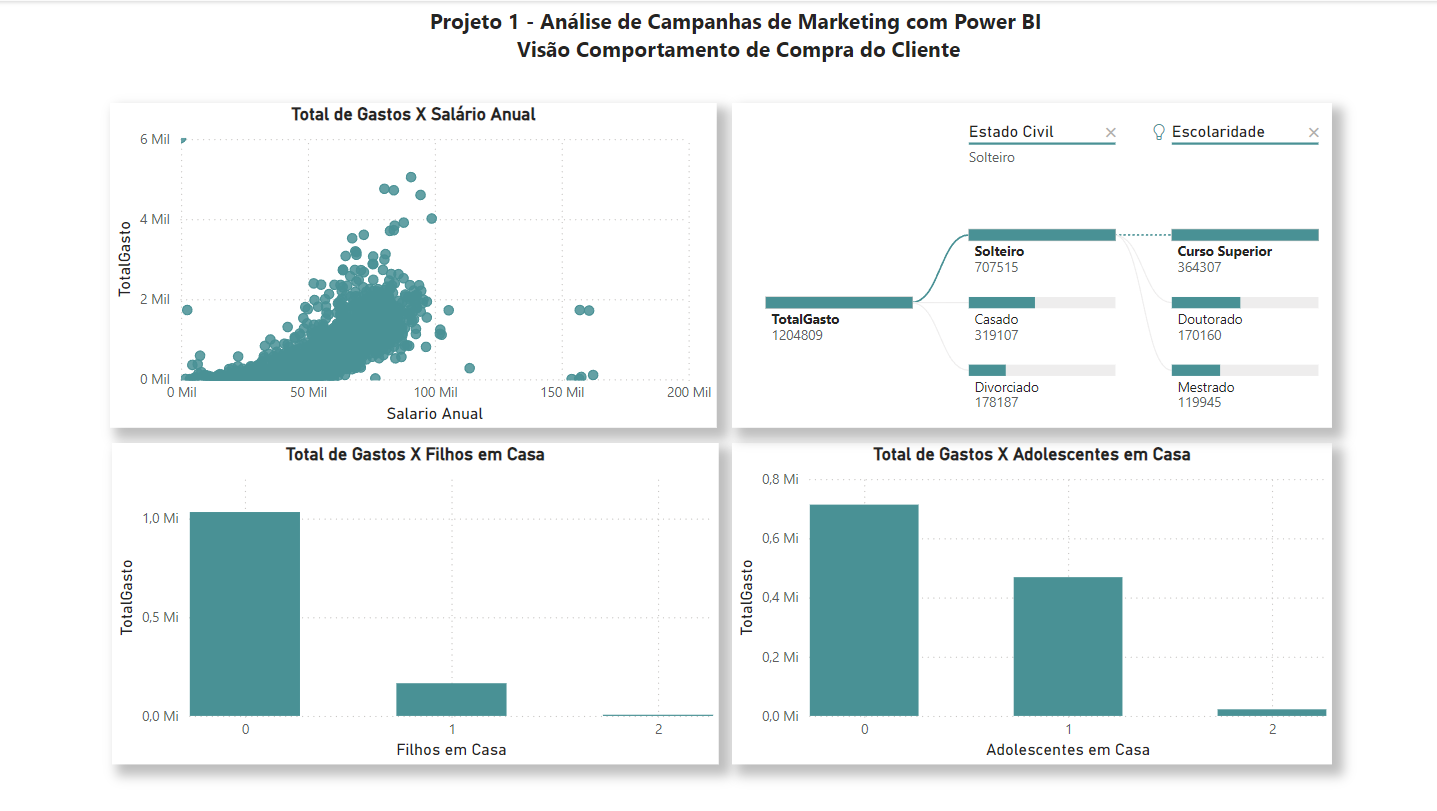

The page's visual inventory and layout, read from the dashboard file:
{"tool":"powerbi","page":{"name":"Visão Comportamento","canvas":[1280,720],"ordinal":1},"visuals":[{"type":"scatterChart","title":"Total de Gastos X Salário Anual","fields":{"X":["DadosMarketing.Salario Anual"],"Y":["DadosMarketing.TotalGasto"]},"box":[100,90,538,288],"z":0},{"type":"clusteredColumnChart","title":"Total de Gastos X Filhos em Casa","fields":{"Y":["DadosMarketing.TotalGasto"],"Category":["DadosMarketing.Filhos em Casa"]},"box":[102,392,538,285],"z":1000},{"type":"clusteredColumnChart","title":"Total de Gastos X Adolescentes em Casa","fields":{"Y":["DadosMarketing.TotalGasto"],"Category":["DadosMarketing.Adolescentes em Casa"]},"box":[652,392,532,285],"z":2000},{"type":"decompositionTreeVisual","fields":{"Analyze":["DadosMarketing.TotalGasto"],"ExplainBy":["DadosMarketing.Estado Civil","DadosMarketing.Escolaridade"]},"box":[652,90,532,288],"z":3000},{"type":"textbox","box":[282.9,0,749.3,76.3],"z":4000}]}

Visuals, with their boxes in screenshot pixels (x1, y1, x2, y2), scaled from the page's 1280x720 canvas onto the 1437x811 screenshot:
"Total de Gastos X Salário Anual" scatterChart: 112:101:716:426
"Total de Gastos X Filhos em Casa" clusteredColumnChart: 115:442:718:763
"Total de Gastos X Adolescentes em Casa" clusteredColumnChart: 732:442:1329:763
decompositionTreeVisual - DadosMarketing.TotalGasto x DadosMarketing.Estado Civil: 732:101:1329:426
textbox: 318:0:1159:86
